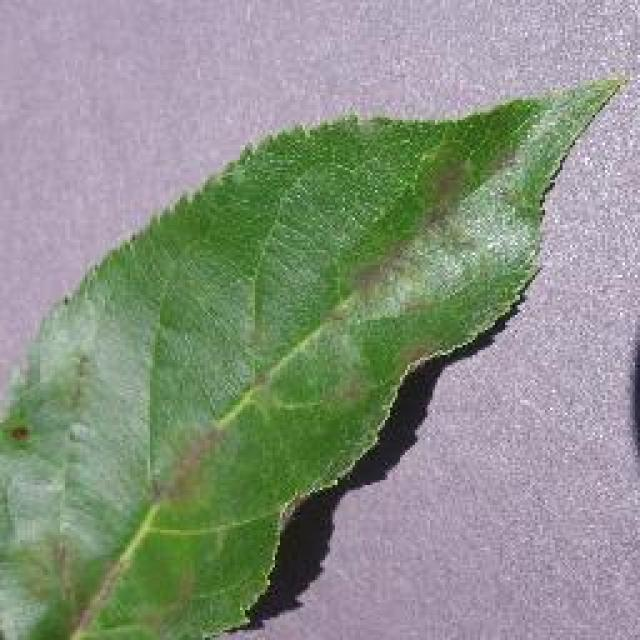apple scab disease: (0, 72, 628, 638)
